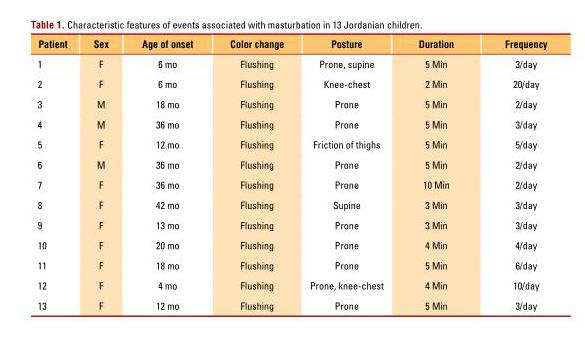table: (36, 36, 546, 311)
table column: (296, 36, 400, 311), (124, 36, 210, 311), (210, 36, 296, 311), (400, 36, 478, 311), (478, 36, 546, 311), (79, 36, 124, 311), (36, 36, 79, 311)
table column header: (36, 36, 546, 53)
table row: (36, 153, 546, 174), (36, 53, 546, 73), (36, 73, 546, 93), (36, 93, 546, 113), (36, 113, 546, 133), (36, 133, 546, 153), (36, 174, 546, 194), (36, 194, 546, 214), (36, 214, 546, 234), (36, 234, 546, 254), (36, 254, 546, 274), (36, 274, 546, 294), (36, 36, 546, 53), (36, 294, 546, 311)
